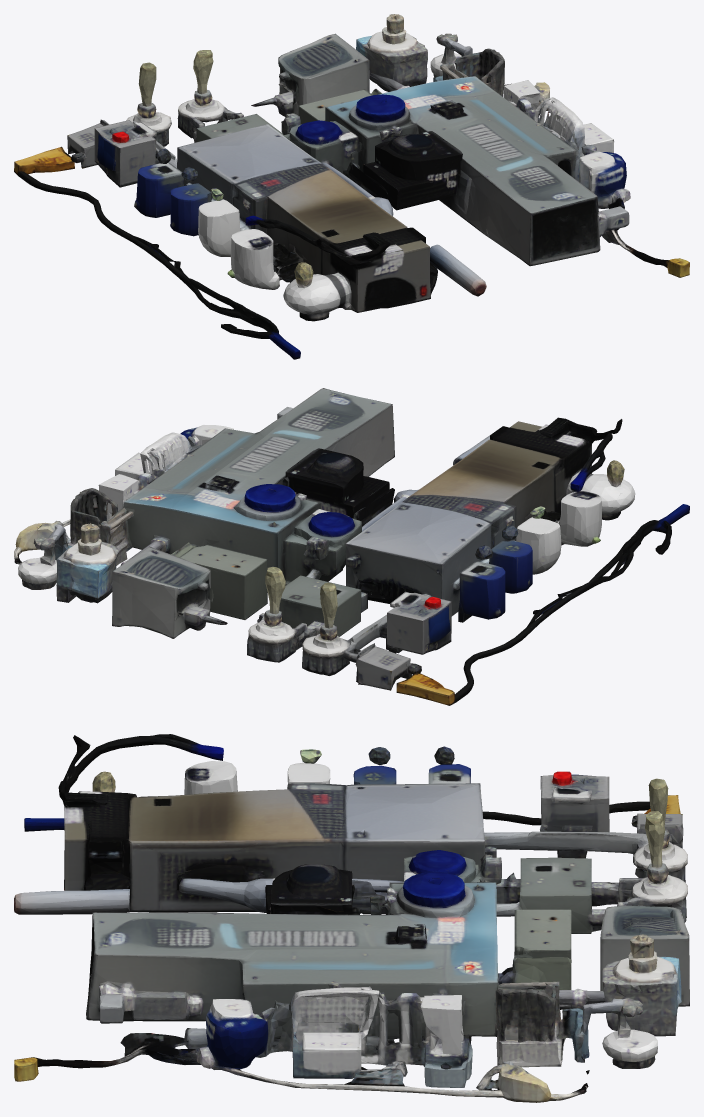
Rendered from Grid-partial.glb.
The picture shows the model from 3 angles, top to bottom: view 1: azimuth 30°, elevation 25°; view 2: azimuth 150°, elevation 25°; view 3: azimuth 270°, elevation 25°; orthographic projection. The views are drawn at different scales.
Parts seen in each view (by area): view 1: world; view 2: world; view 3: world.
Boxes of the visible parts, x1=… form: world: x1=14, y1=14, x2=689, y2=359; world: x1=14, y1=388, x2=689, y2=705; world: x1=14, y1=734, x2=689, y2=1102.
Bounding box in the file's own units: 1 × 0.2085 × 0.9664.
1 material, 1 textured.
